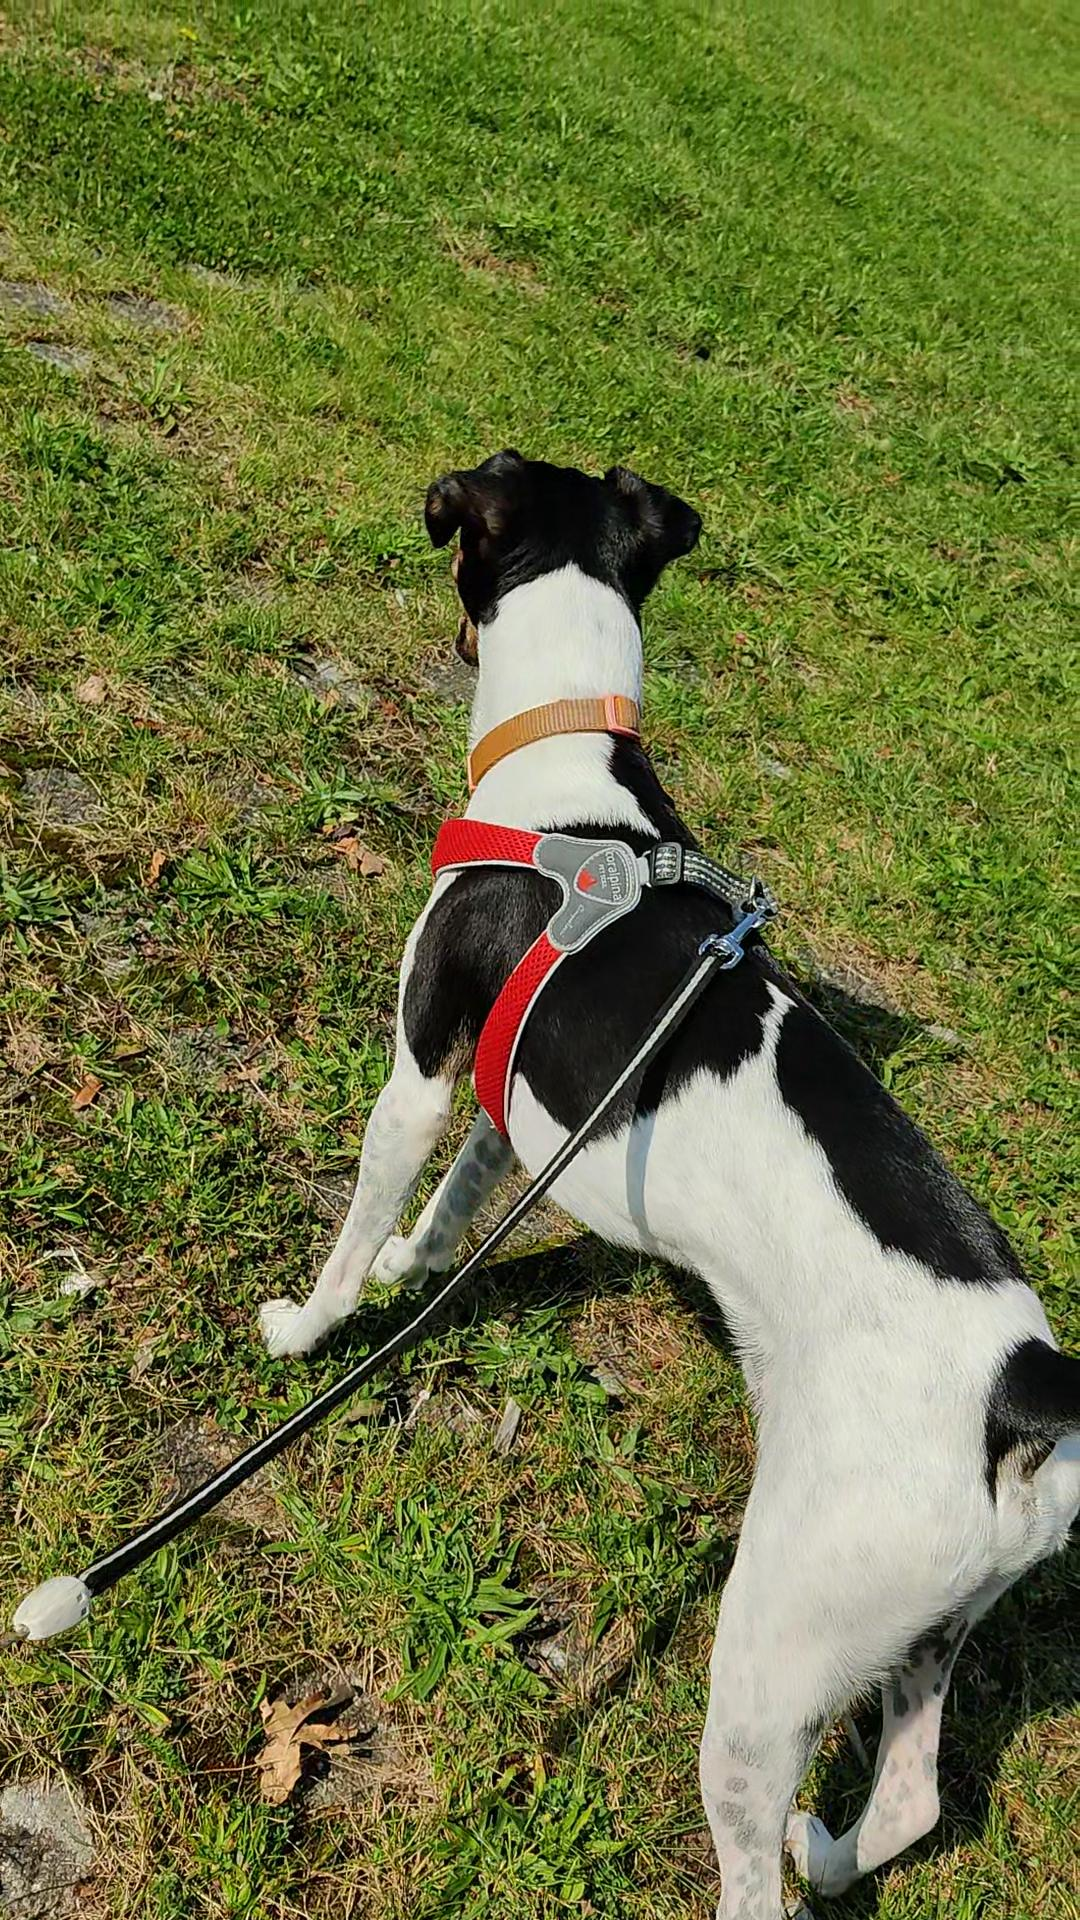Dog: (243, 442, 1079, 1919)
